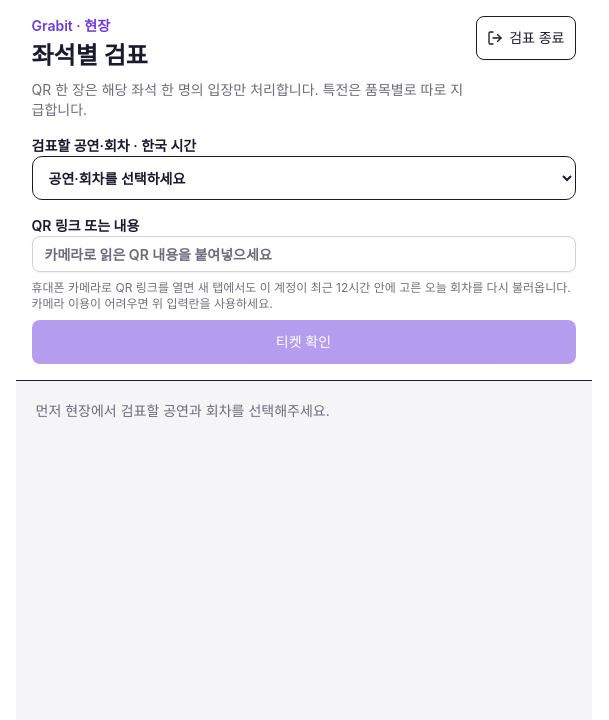
Scenario: FieldCheckInPage benefit redemption showtime contract › accepts manual QR content after choosing the real showtime and requires a separate entry action
Select "현장 검증 · 01/01(목) 19:00 KST" in the dropdown labelled "검표할 공연·회차". click: [304, 178]
box: [32,156,576,200]
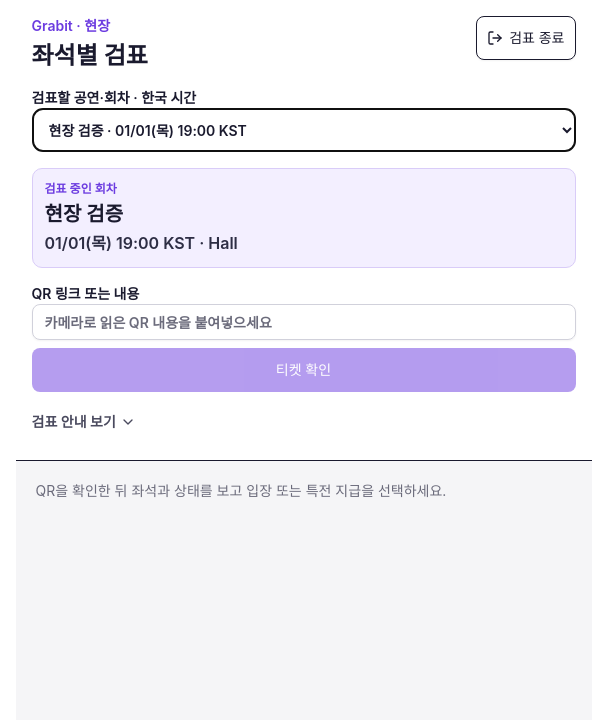
Type "raw-ticket-token-for-benefit-redemption" into the password field labelled "QR 링크 또는 내용". click: [304, 322]
box: [32,304,576,340]
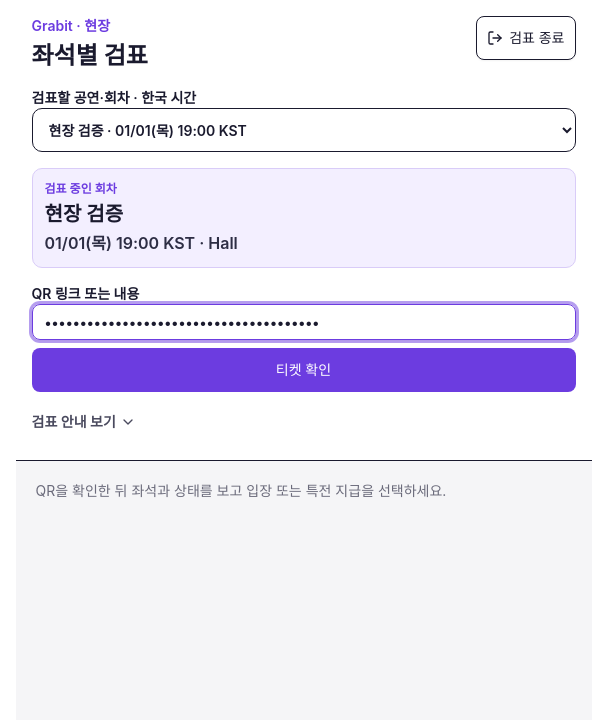
Click the button "티켓 확인". click: [304, 370]
box: [32,348,576,392]
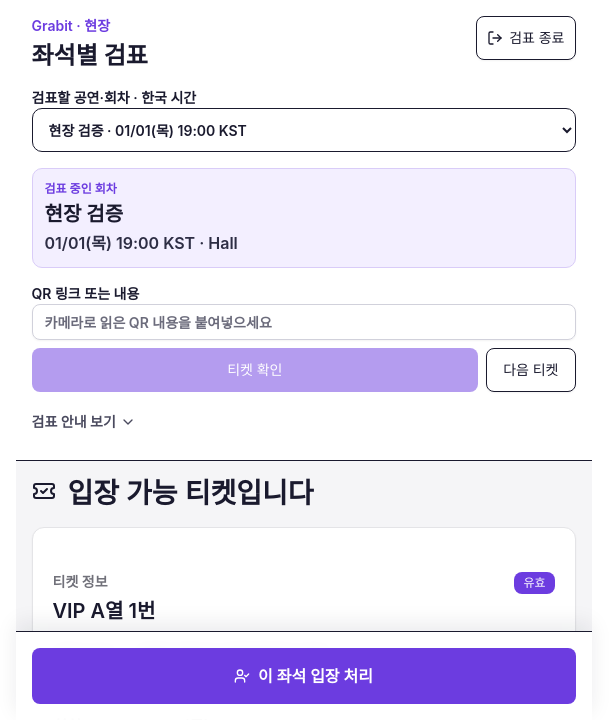
Now the button "이 좌석 입장 처리" is enabled, box [32,648,576,704]
